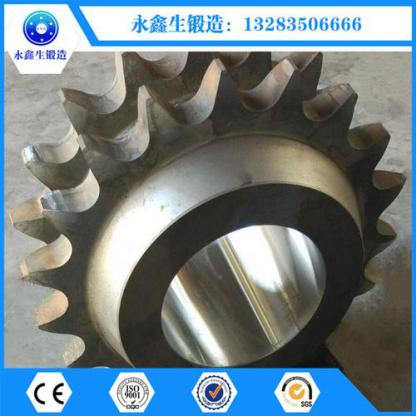FOD: (20, 55, 411, 366)
